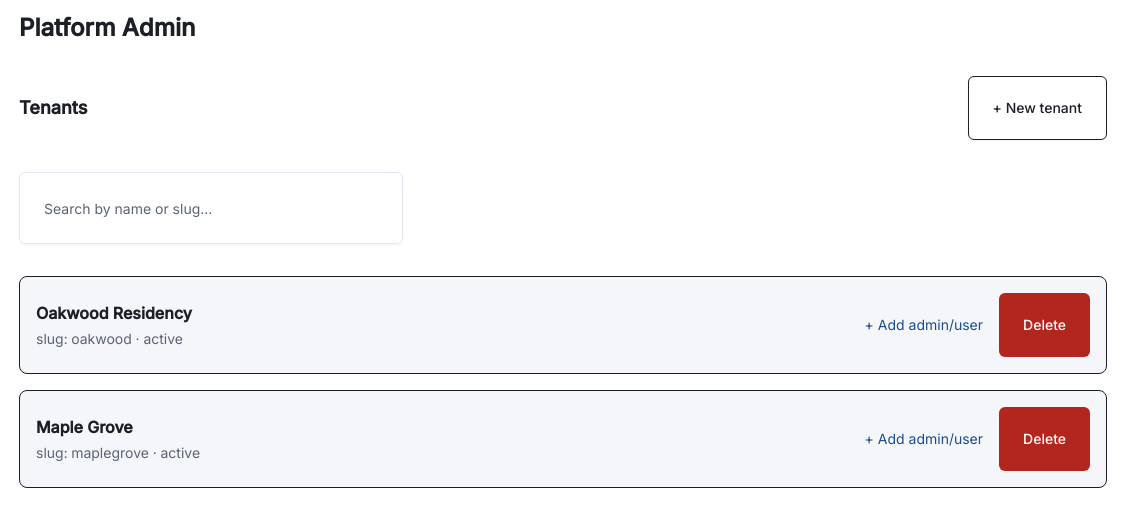
Test case: TenantList › search filters tenants by name
Check: the text "Oakwood Residency" is shown, box [36, 303, 192, 323]
Check: the text "Maple Grove" is shown, box [36, 417, 133, 437]
Type "oak" into the field named "search tenants".
click(211, 208); type("oak")  # box [19, 172, 403, 244]
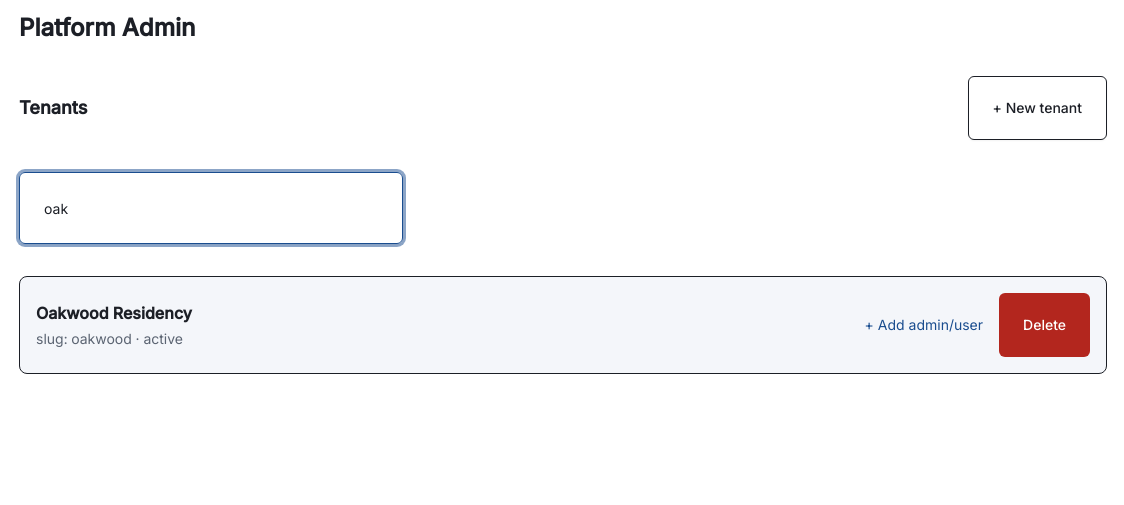
Check: the text "Oakwood Residency" is shown, box [36, 303, 192, 323]
Check: the text "Maple Grove" is gone
